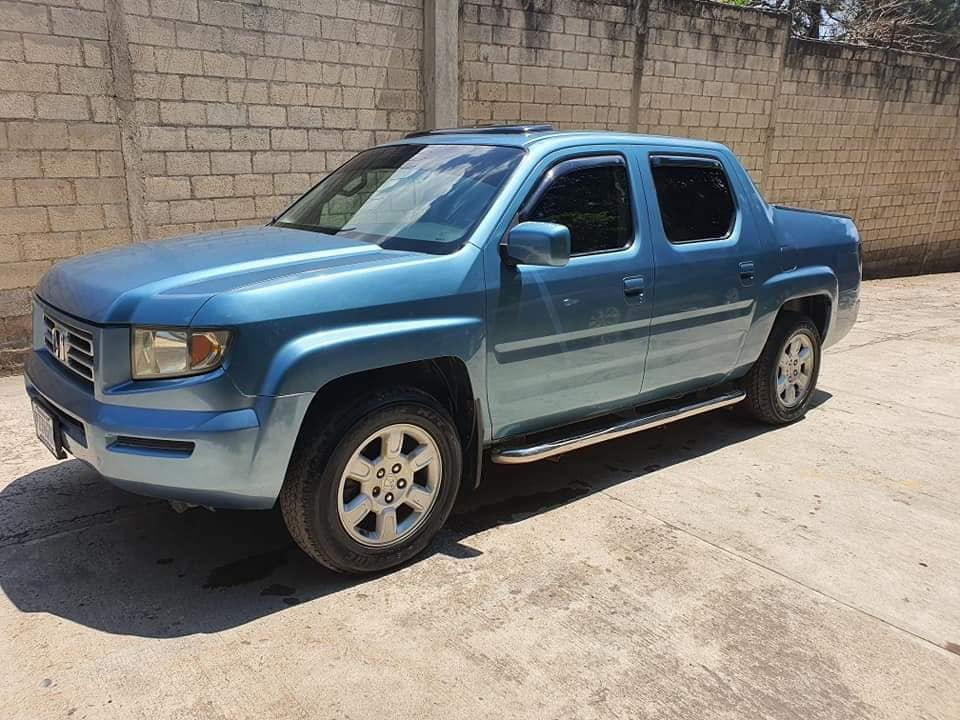pickup: (25, 125, 863, 572)
